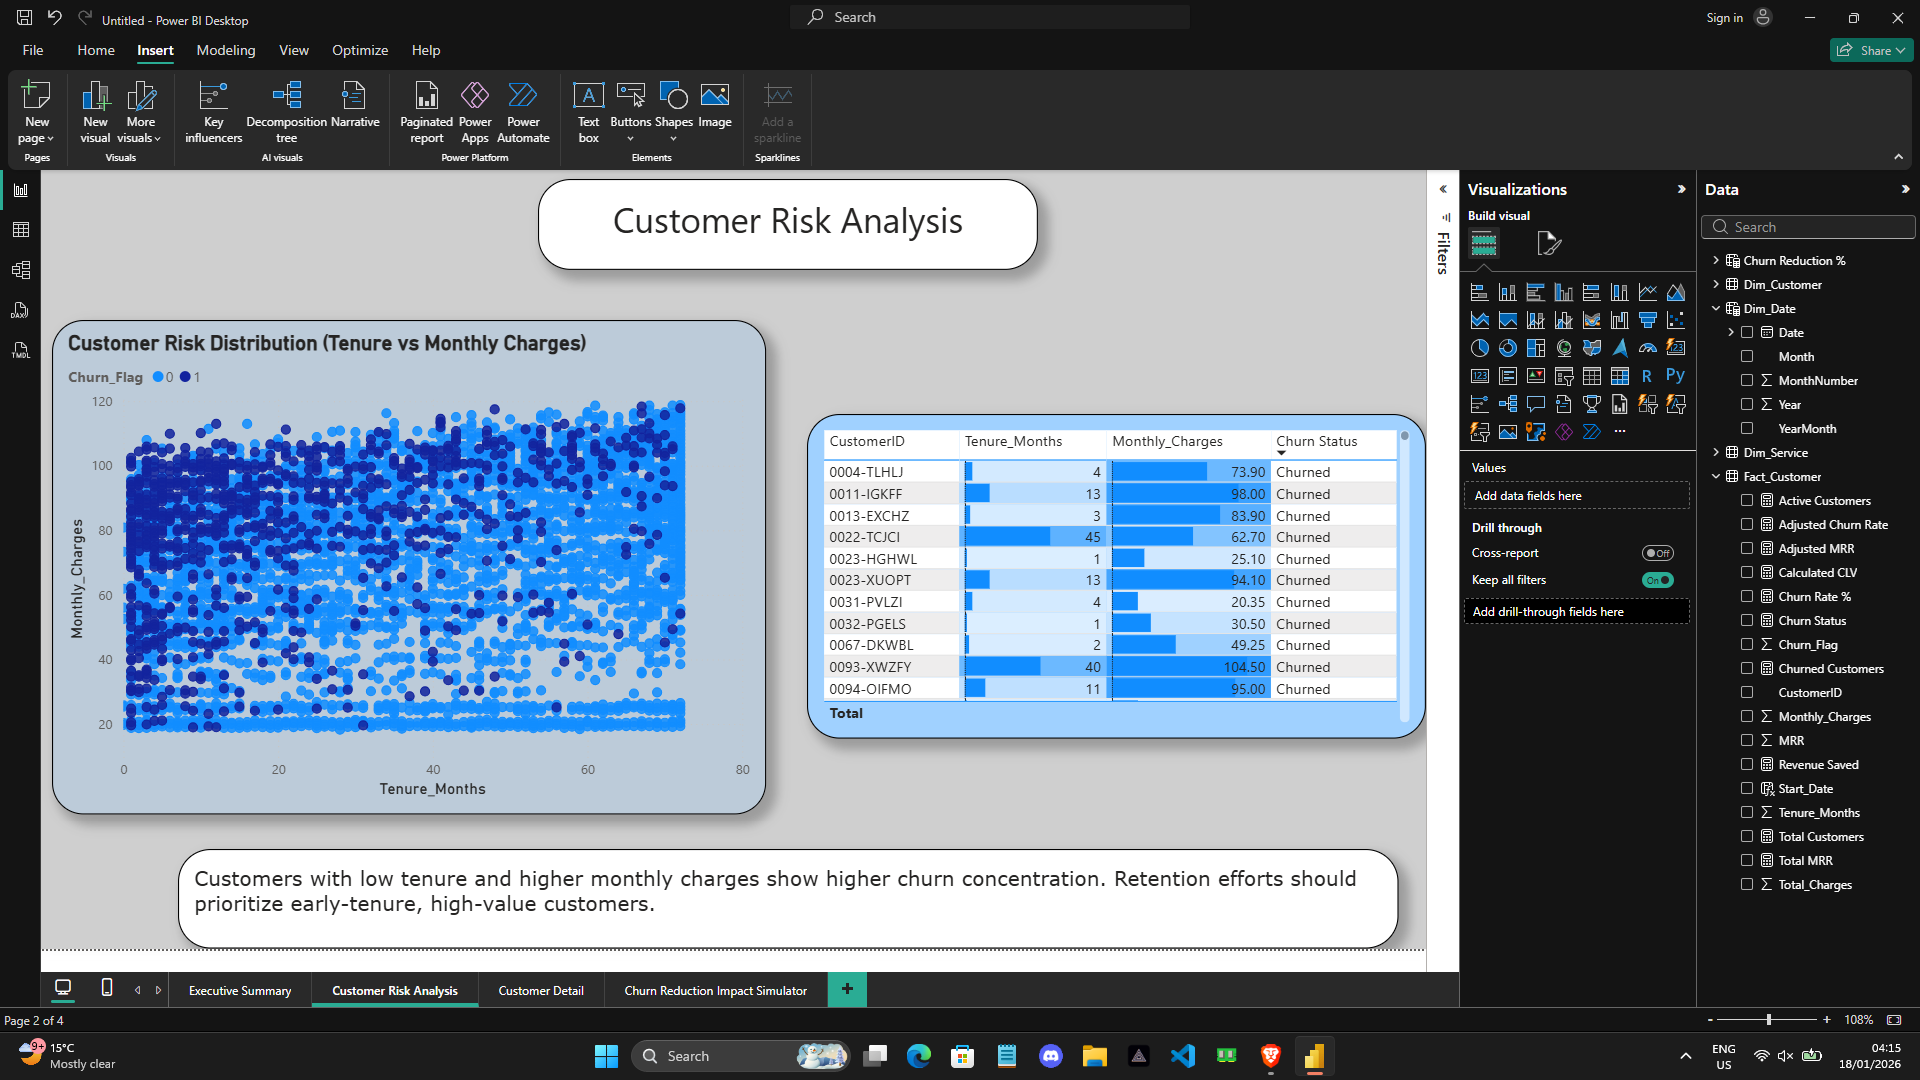

Layout of this report page (visuals, bound fields, positions):
{"tool":"powerbi","page":{"name":"Customer Risk Analysis","canvas":[1280,720],"ordinal":1},"visuals":[{"type":"tableEx","fields":{"Values":["Fact_Customer.CustomerID","Fact_Customer.Tenure_Months","Fact_Customer.Monthly_Charges","Fact_Customer.Churn Status"]},"box":[707.9,225.5,572.1,300.4],"z":0},{"type":"textbox","box":[459.3,8.3,462.1,84.1],"z":1},{"type":"scatterChart","title":"Customer Risk Distribution (Tenure vs Monthly Charges)","fields":{"X":["Fact_Customer.Tenure_Months"],"Y":["Fact_Customer.Monthly_Charges"],"Series":["Fact_Customer.Churn_Flag"]},"box":[10.2,138.6,659.9,456.5],"z":2},{"type":"textbox","box":[126.6,627.5,1127.5,92.4],"z":3}]}

Visuals, with their boxes on the page's 1280x720 design canvas (x1, y1, x2, y2). These are canvas units, not pixel positions in the 1920x1080 screenshot, which may show the page scaled, cropped or inside an application window:
tableEx - Fact_Customer.CustomerID x Fact_Customer.Tenure_Months: (708,226,1280,526)
textbox: (459,8,921,92)
"Customer Risk Distribution (Tenure vs Monthly Charges)" scatterChart: (10,139,670,595)
textbox: (127,628,1254,720)
